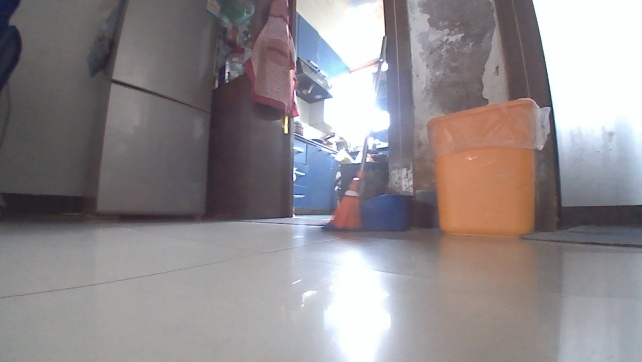blanket: (518, 220, 641, 249)
cupboard: (292, 128, 343, 215)
refrigerator: (75, 0, 224, 223)
